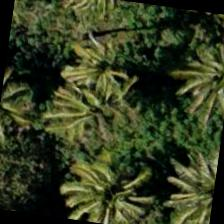Kelapa_Sawit: (53, 69, 155, 171), (53, 19, 155, 120), (74, 142, 176, 223), (170, 32, 223, 130)
